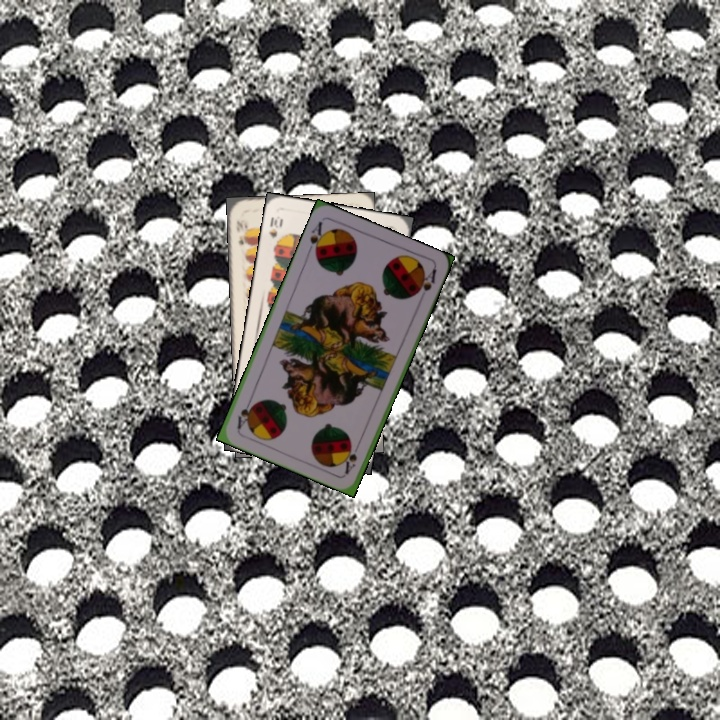E10: (232, 216, 250, 247)
S10: (265, 213, 286, 250)
SA: (304, 217, 329, 258), (341, 438, 363, 477)
